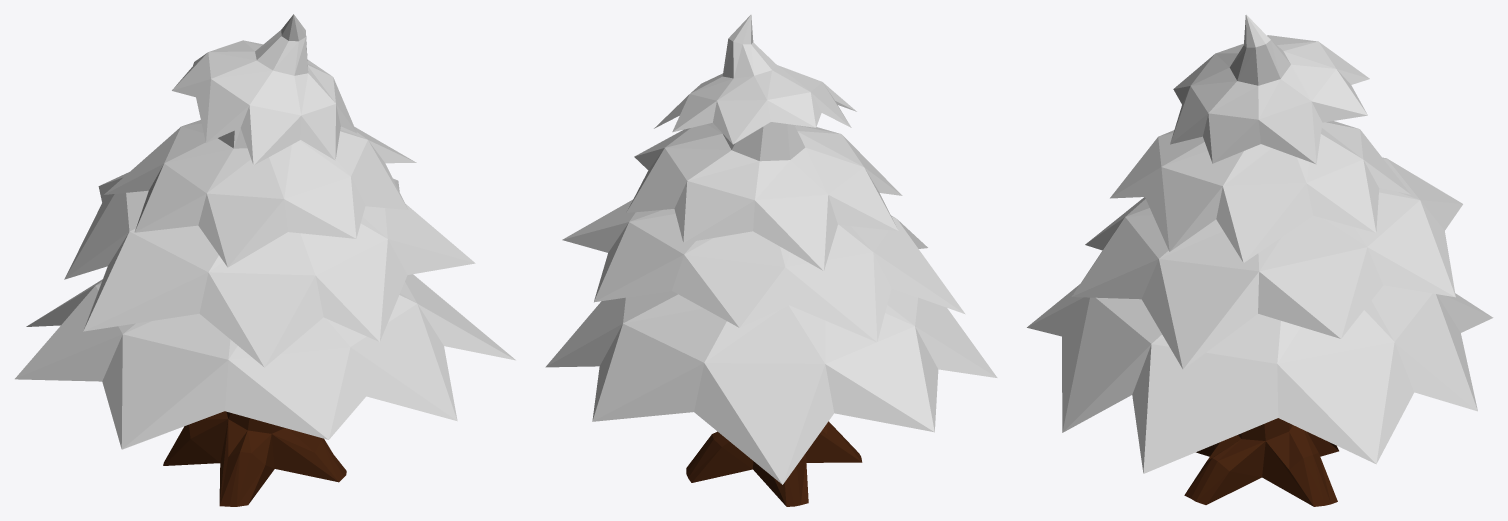
The model's file is Tree3.FBX.
3 renders of one model, left to right at view 1: azimuth 30°, elevation 25°; view 2: azimuth 150°, elevation 25°; view 3: azimuth 270°, elevation 25°, orthographic. The views are drawn at different scales.
Visible parts, largest first — view 1: Cone005, Cylinder014; view 2: Cone005, Cylinder014; view 3: Cone005, Cylinder014.
Boxes of the visible parts, x1,y1,x2,y2 form: Cone005: (15, 14, 515, 449); Cylinder014: (163, 411, 346, 506); Cone005: (545, 14, 997, 484); Cylinder014: (686, 421, 862, 506); Cone005: (1027, 14, 1493, 473); Cylinder014: (1184, 418, 1338, 506).
Bounding box in the file's own units: 295 × 315 × 279.
